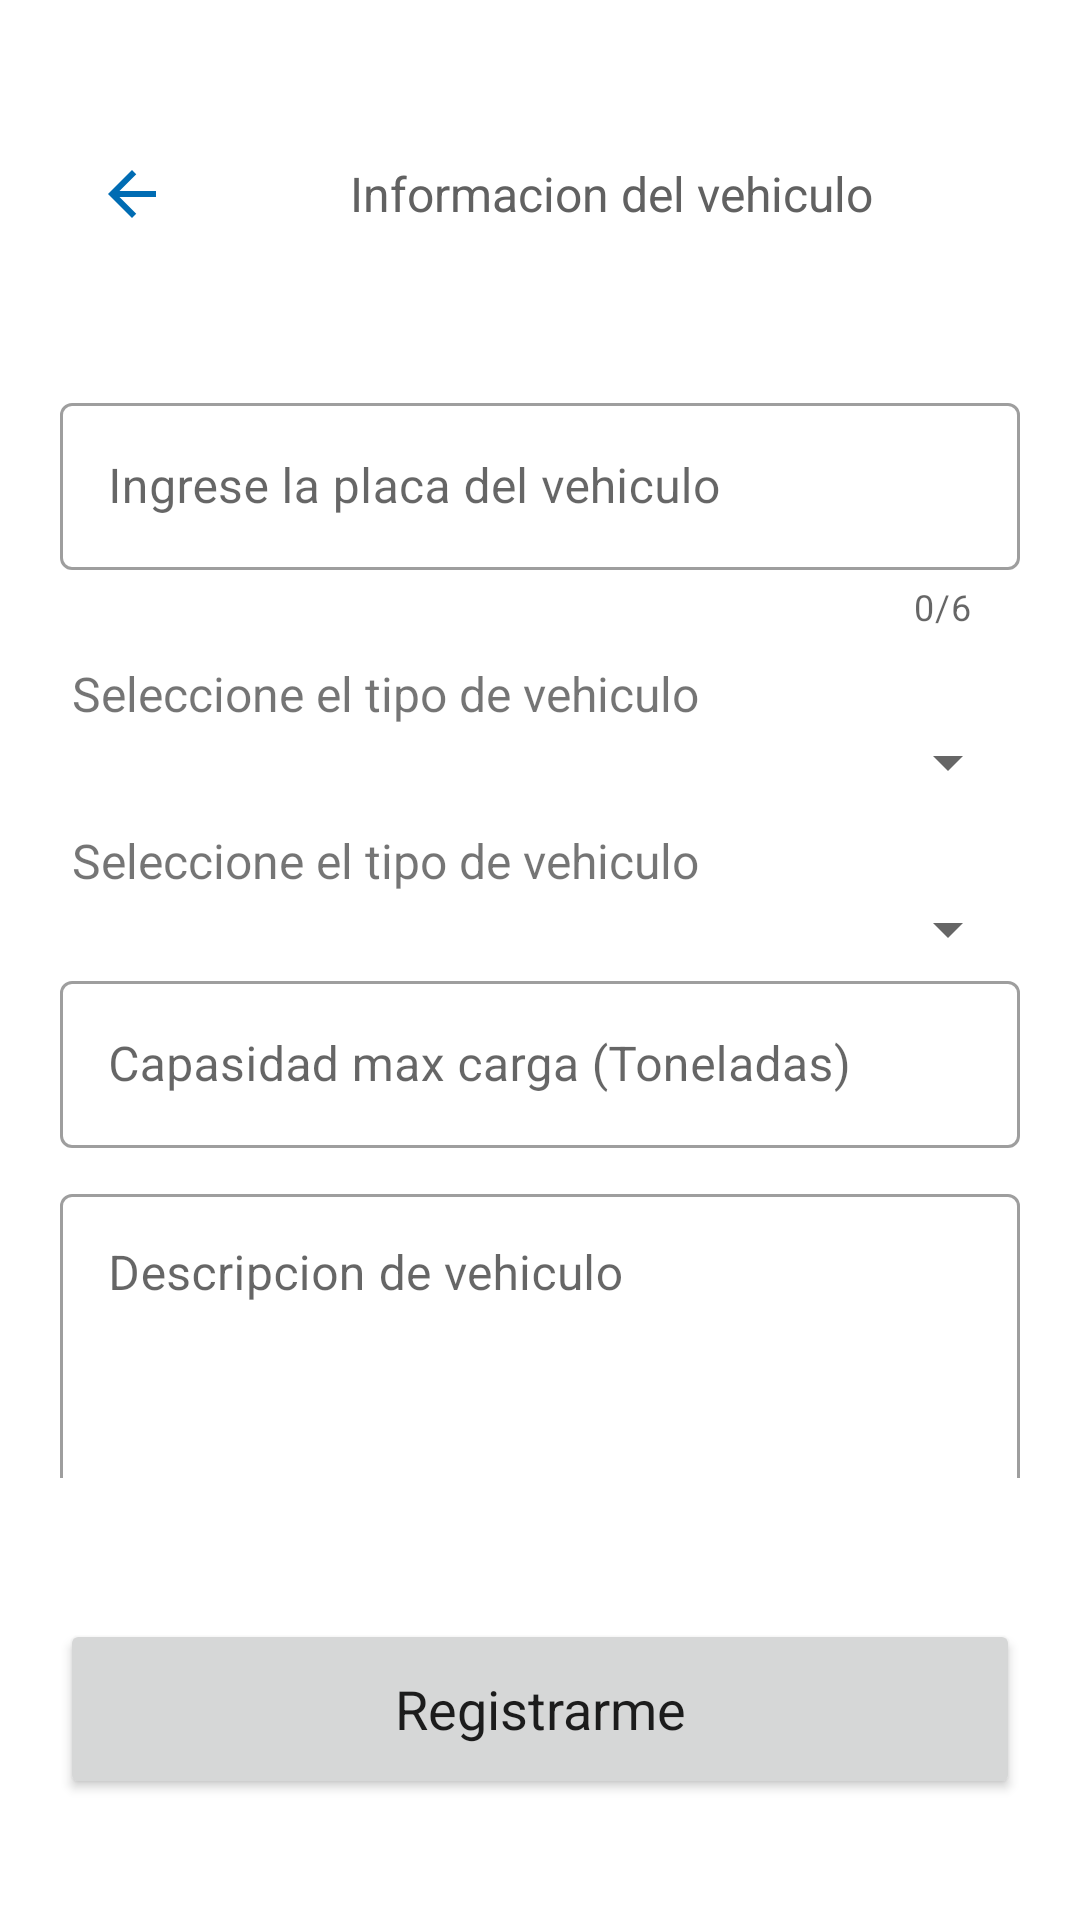

Icon bounding boxes for this 1080px x 1920px phone screenshot, format (x1, y1, x2, y2):
flecha atras: (108, 170, 156, 218)
